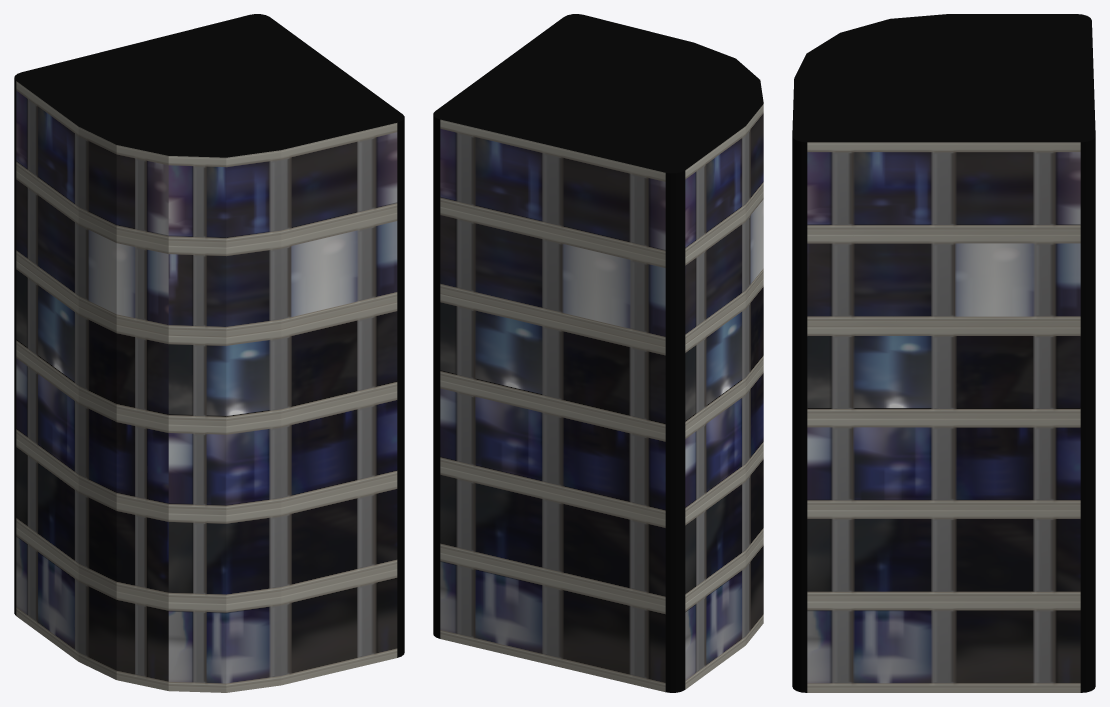
Rendered from building2.obj.
3 renders of one model, left to right at view 1: azimuth 30°, elevation 25°; view 2: azimuth 150°, elevation 25°; view 3: azimuth 270°, elevation 25°, orthographic. The views are drawn at different scales.
Parts seen in each view (by area): view 1: Cube; view 2: Cube; view 3: Cube.
Boxes of the visible parts, <box> form: Cube: <box>14,14,404,692</box>; Cube: <box>433,14,763,692</box>; Cube: <box>792,14,1095,692</box>.
Bounding box in the file's own units: 40 × 80 × 39.95.
